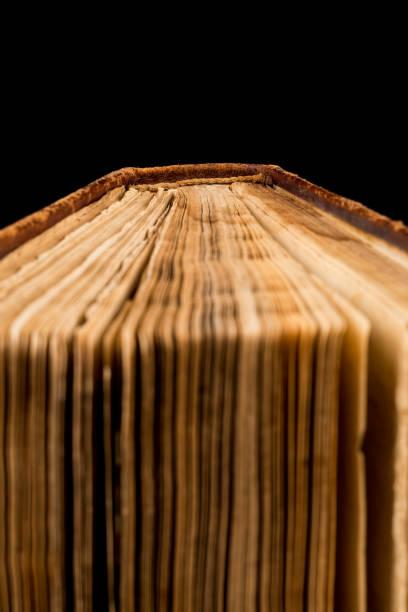paper: (0, 154, 408, 612)
